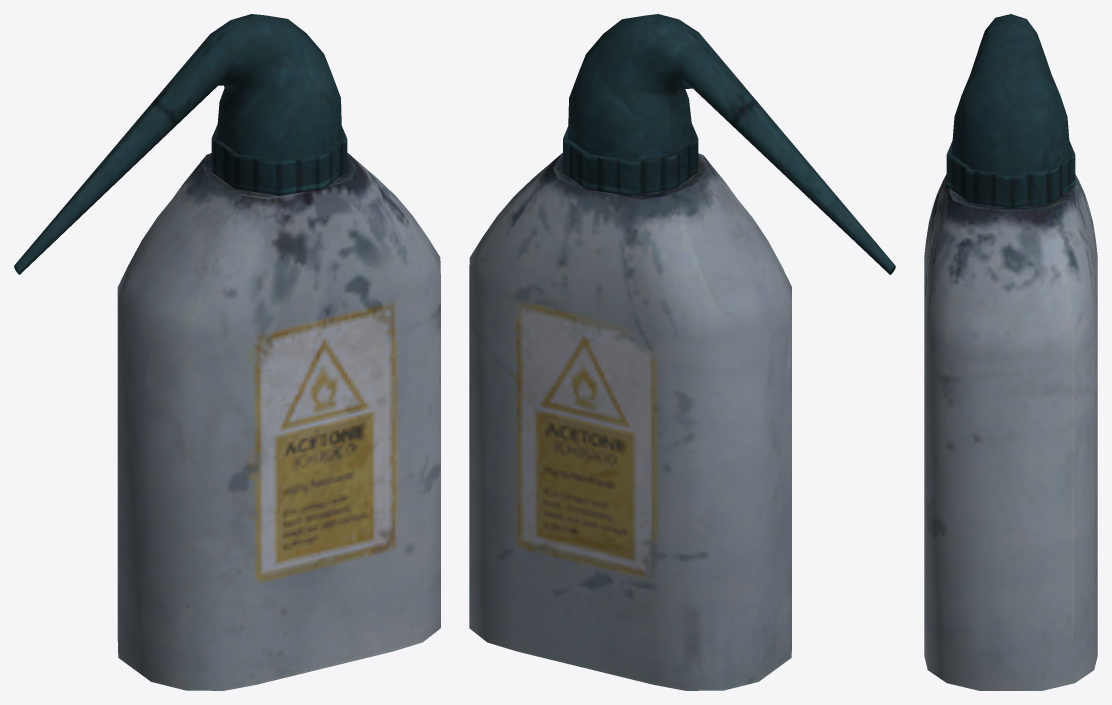
The model's file is acetone.DAE.
3 views of the same model, side by side, from view 1: azimuth 30°, elevation 25°; view 2: azimuth 150°, elevation 25°; view 3: azimuth 270°, elevation 25° (orthographic). The views are drawn at different scales.
Visible parts, largest first — view 1: acetone; view 2: acetone; view 3: acetone.
Part boxes in pixels (x1,y1,x2,y2): acetone: (14, 14, 440, 690); acetone: (469, 14, 895, 690); acetone: (924, 14, 1097, 690).
Size of the model in its own units: 7.46 by 10.87 by 2.9.
